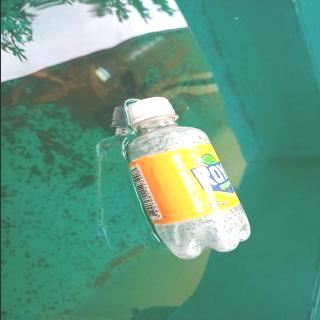bottle: (121, 95, 252, 262)
